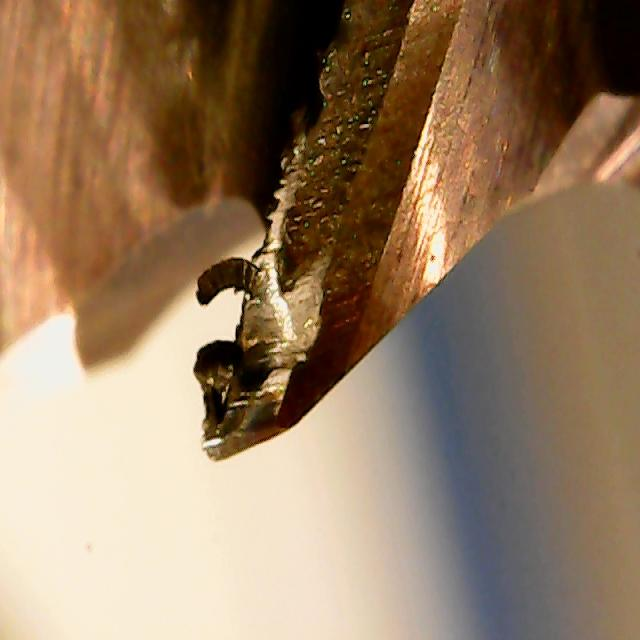Tool-wear-class-3: (191, 222, 403, 480)
